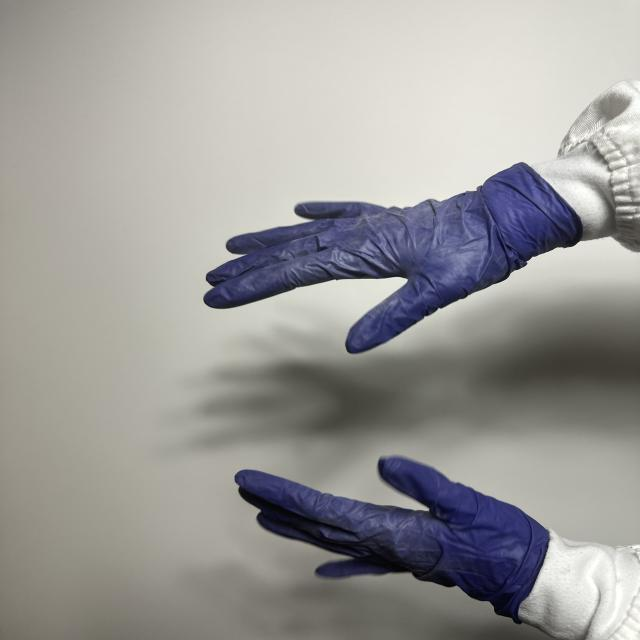gloves_contaminated: (204, 164, 582, 352), (236, 457, 548, 620)
